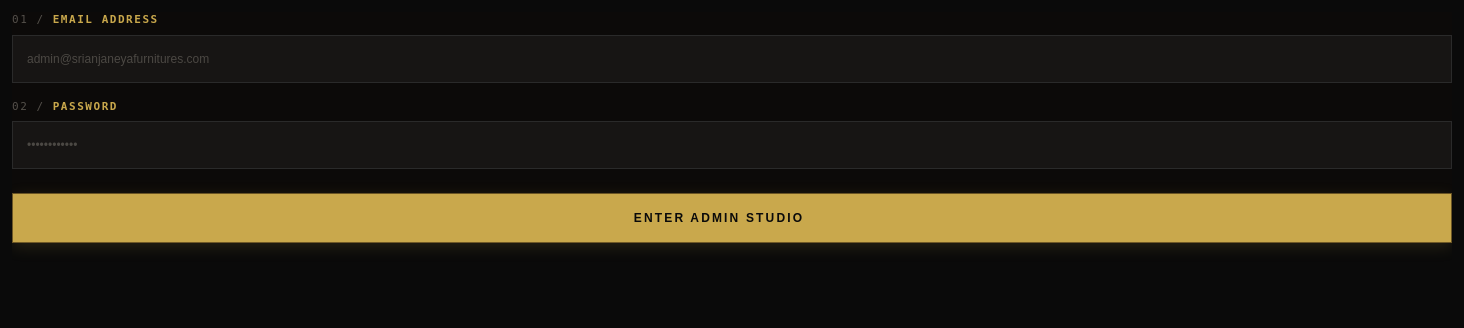
Test: AdminLoginPage — "The Atelier Access Portal" › handles non-admin authenticated user rejection gracefully
The image size is (1464, 328).
Type "patron@example.com" into the field with placeholder "admin@srianjaneyafurnitures.com". click: [732, 58]
box: [12, 34, 1452, 82]
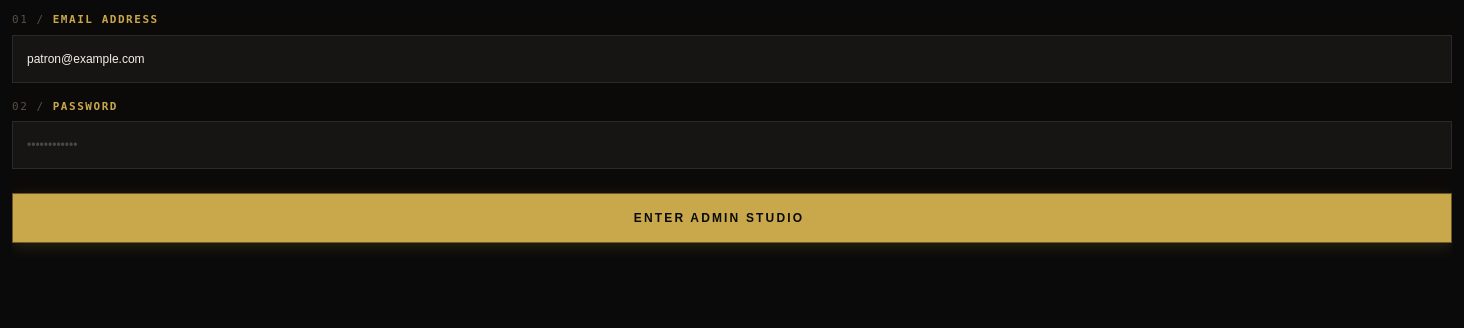
Type "validuserpass" into the password field with placeholder "••••••••••••". click: [732, 145]
box: [12, 121, 1452, 169]
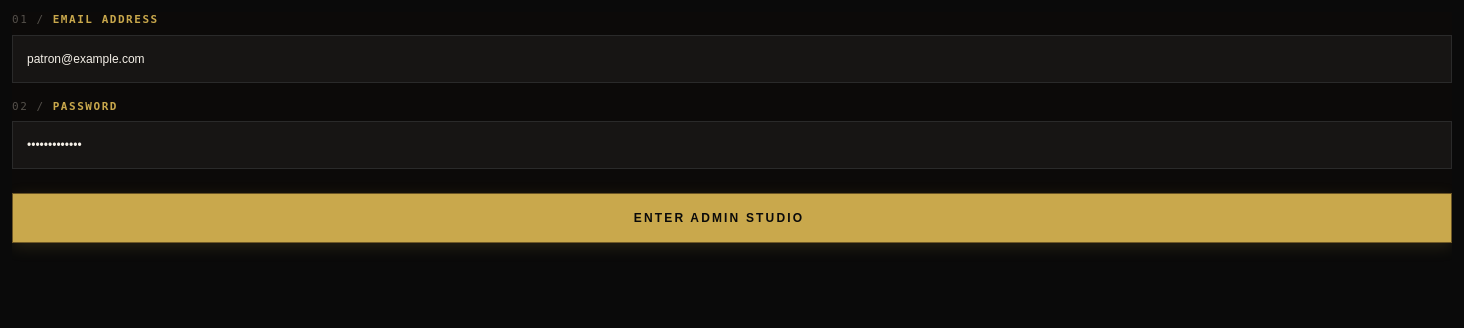
Click the button "Enter Admin Studio". click: [732, 218]
box: [12, 193, 1452, 243]
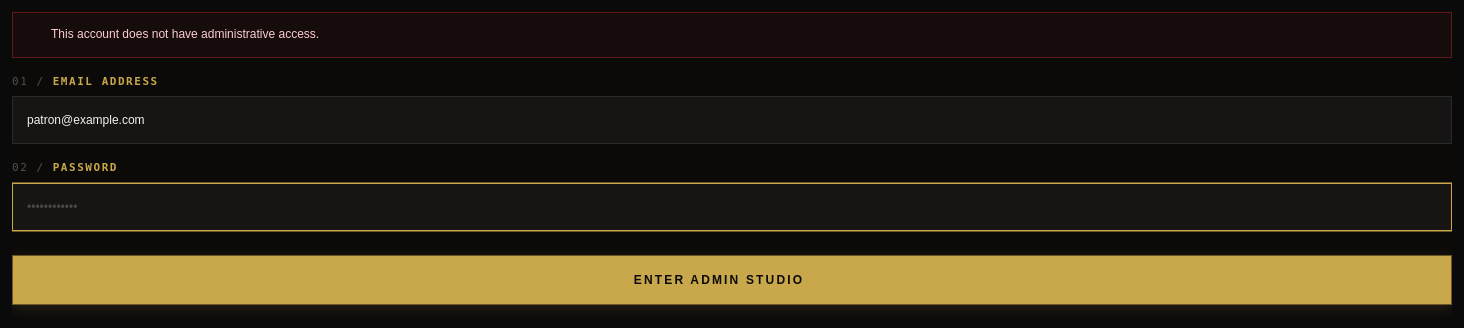
Expected: the text "This account does not have administrative access." is shown, [51, 25, 319, 44]
